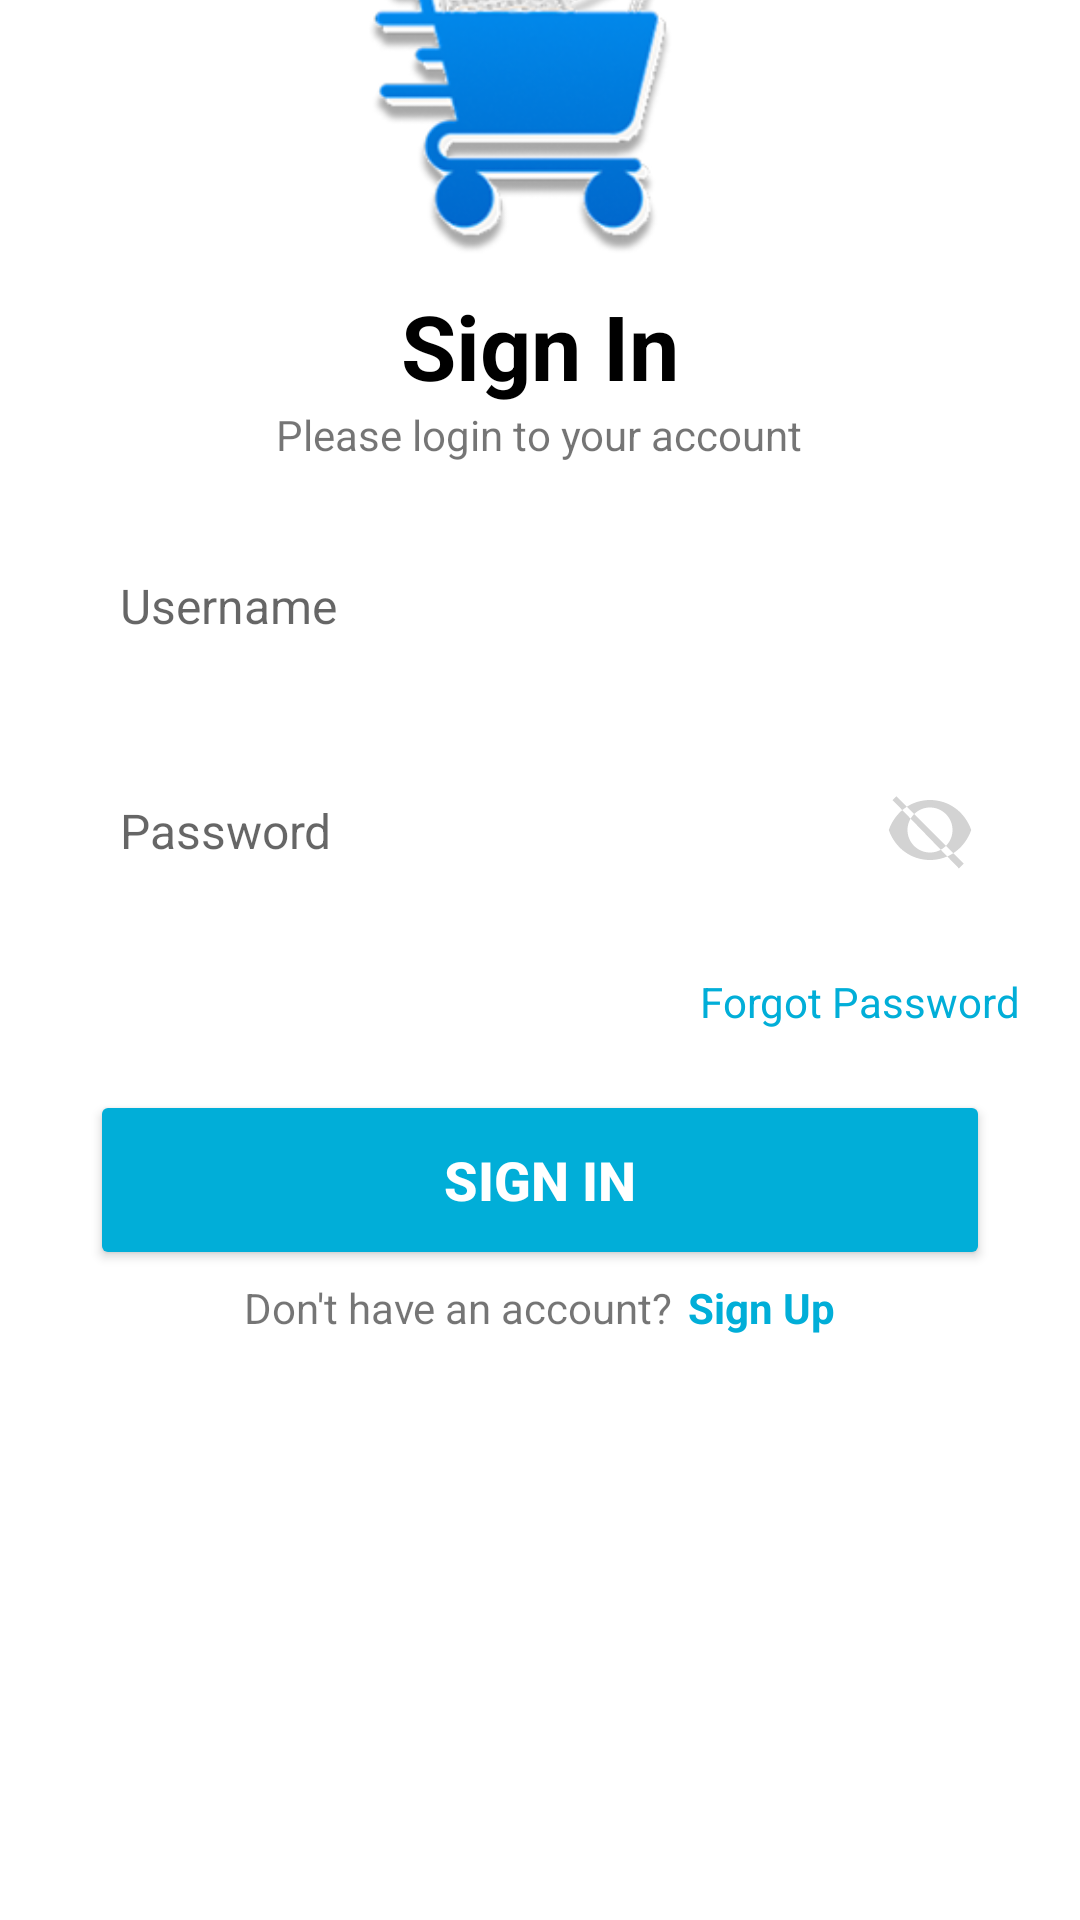

Named icons in this screenshot (1080px×1920px) and their centers, point (x, y):
eye closed: point (930, 832)
